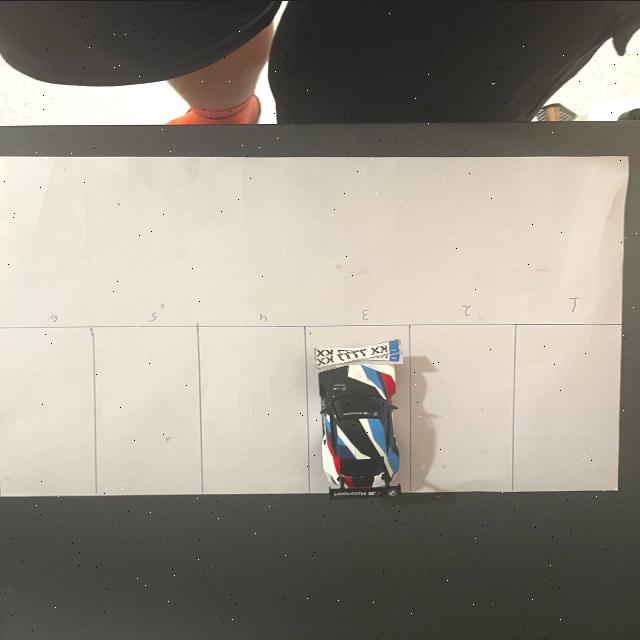KX 7777 KX: (314, 338, 401, 371)
